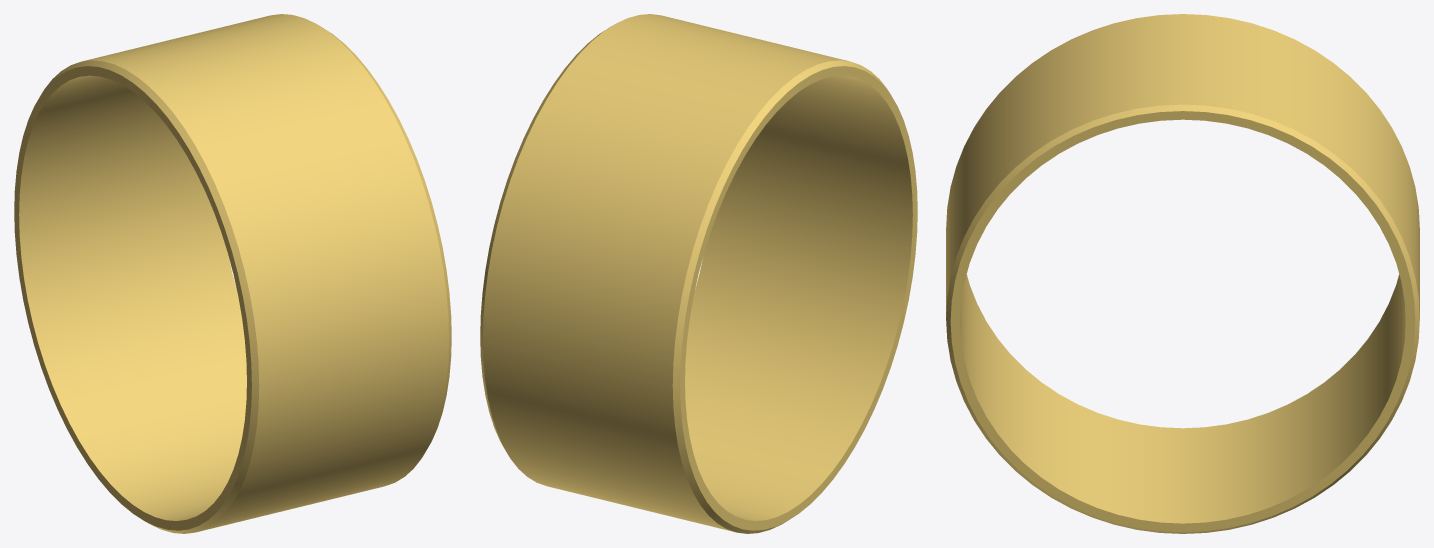
Rendered from BeanLabel.fbx.
3 renders of one model, left to right at view 1: azimuth 30°, elevation 25°; view 2: azimuth 150°, elevation 25°; view 3: azimuth 270°, elevation 25°, orthographic. The views are drawn at different scales.
Parts seen in each view (by area): view 1: BeanLabel; view 2: BeanLabel; view 3: BeanLabel.
Part boxes in pixels (x1=…): BeanLabel: x1=14, y1=14, x2=451, y2=533; BeanLabel: x1=480, y1=14, x2=917, y2=533; BeanLabel: x1=946, y1=14, x2=1419, y2=533.
Size of the model in its own units: 4 by 8.4 by 8.4.
